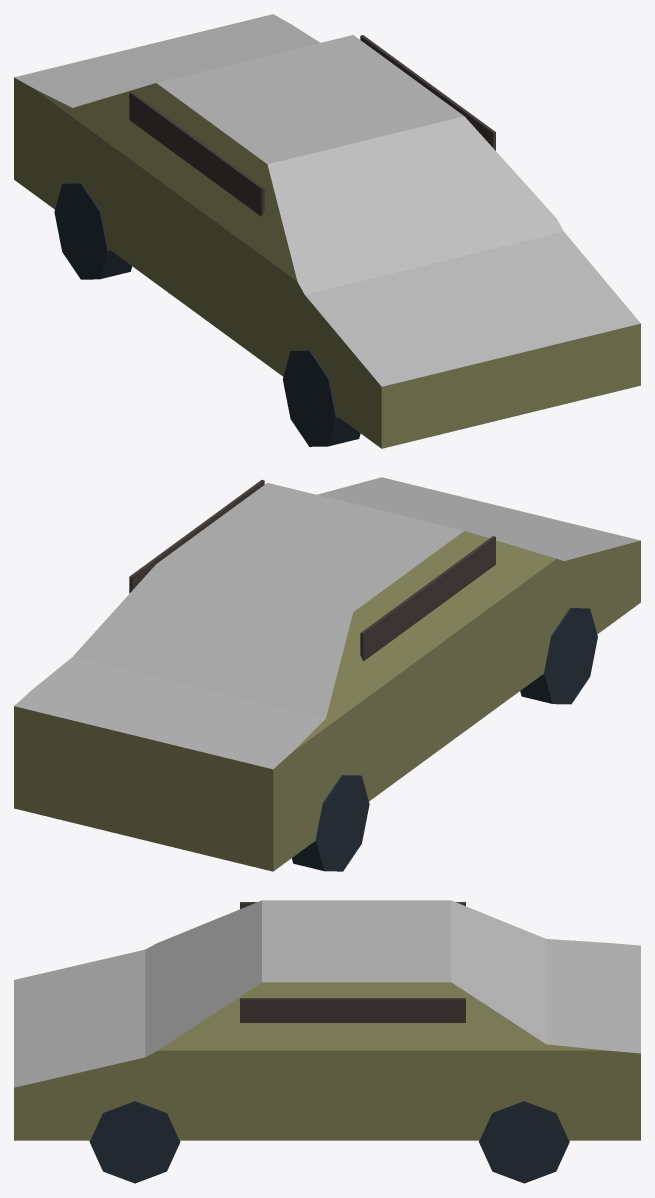
File: SM_coche_2000_v2_LOD1.fbx
The picture shows the model from 3 angles, top to bottom: view 1: azimuth 30°, elevation 25°; view 2: azimuth 150°, elevation 25°; view 3: azimuth 270°, elevation 25°; orthographic projection. The views are drawn at different scales.
Visible parts, largest first — view 1: SM_bloques.coche_2000_v2_LOD1; view 2: SM_bloques.coche_2000_v2_LOD1; view 3: SM_bloques.coche_2000_v2_LOD1.
Boxes of the visible parts, x1=… form: SM_bloques.coche_2000_v2_LOD1: x1=14, y1=14, x2=640, y2=448; SM_bloques.coche_2000_v2_LOD1: x1=14, y1=477, x2=640, y2=871; SM_bloques.coche_2000_v2_LOD1: x1=14, y1=900, x2=640, y2=1183.
Bounding box in the file's own units: 1.77 × 1.42 × 4.3.
